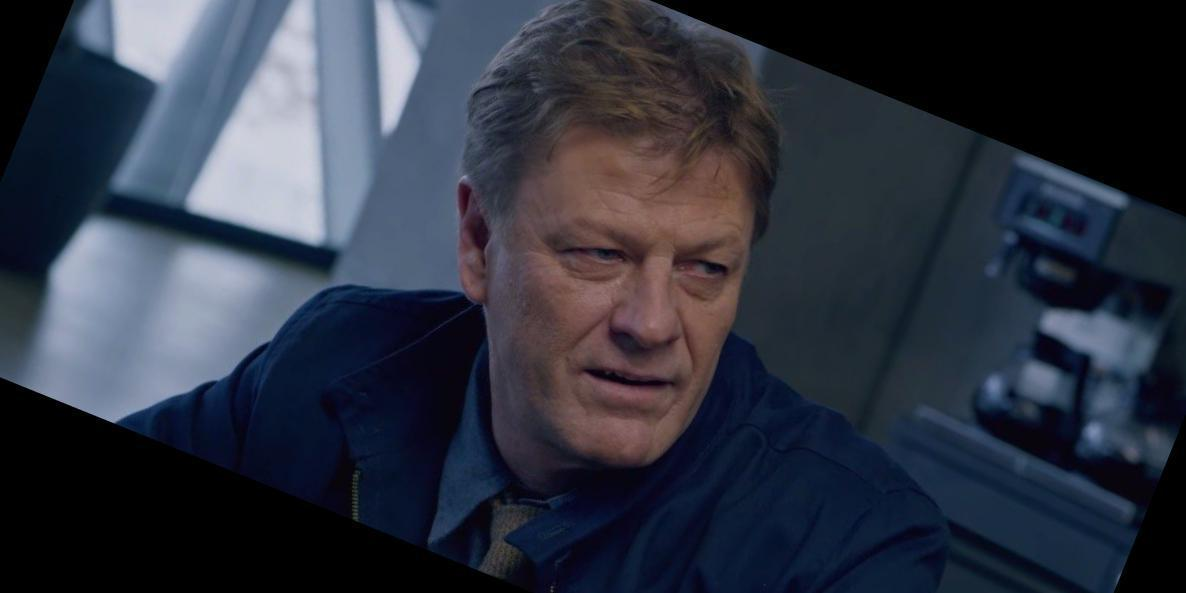Sober: (522, 133, 737, 440)
